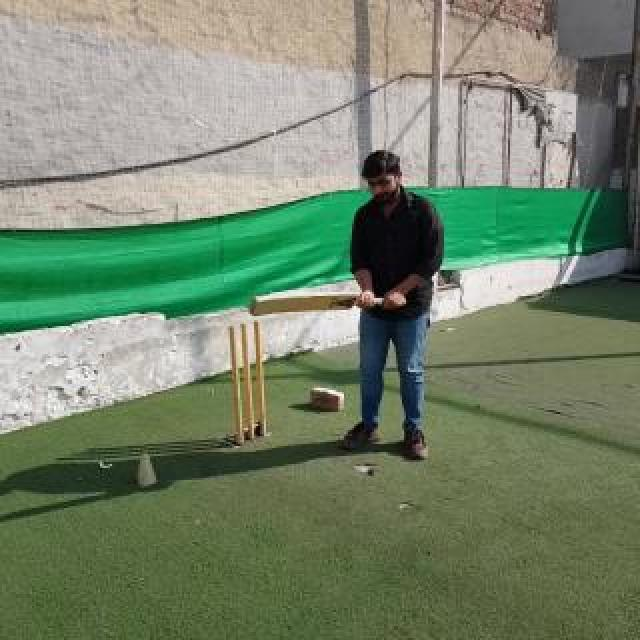bat: (249, 290, 407, 316)
